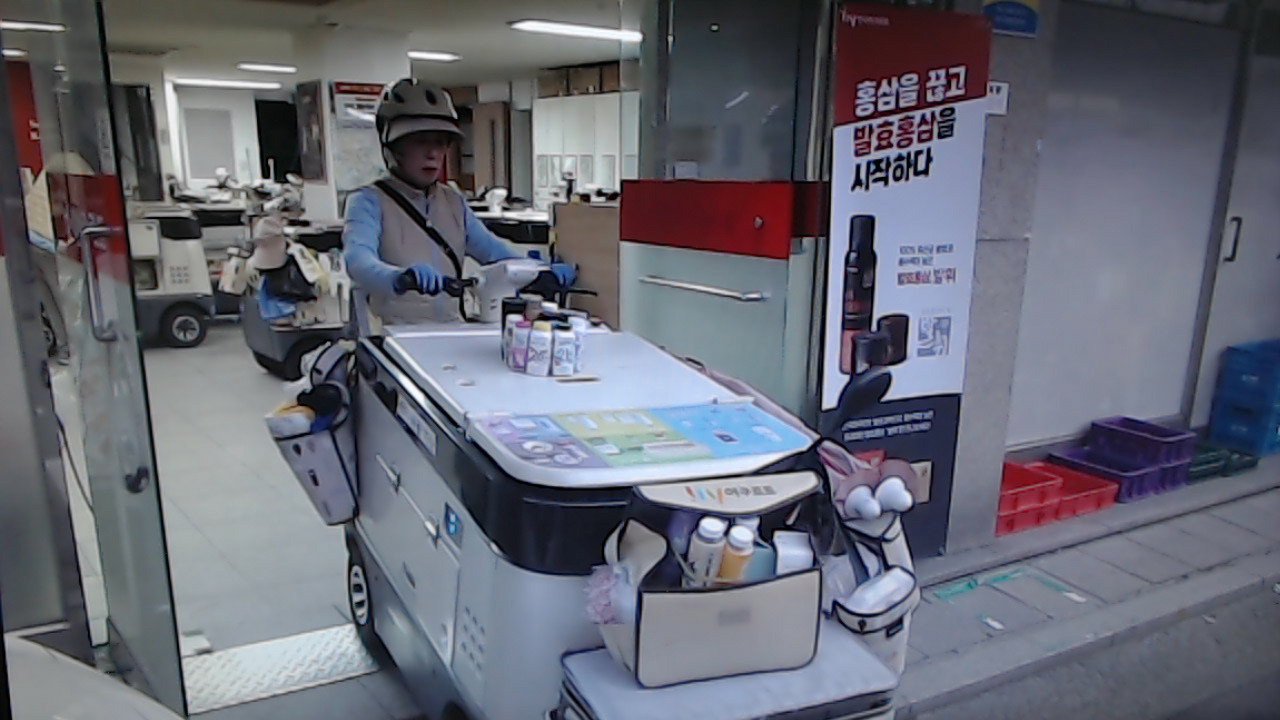Yakurut: (344, 77, 589, 333)
